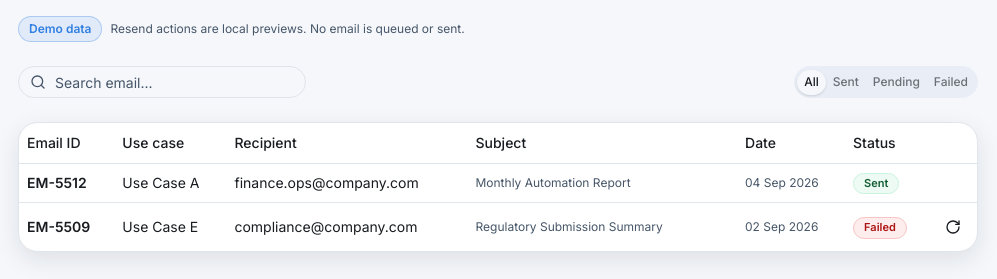
EmailHistoryPreview › filters the provided history without mutating it
The image size is (997, 279).
Type "compliance" into the field named "Search email history".
click(162, 82); type("compliance")  # box [18, 66, 306, 98]
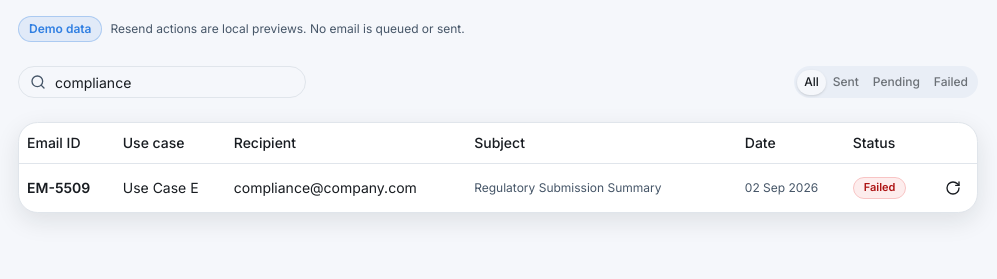
Expected: the text "EM-5509" is shown, [19, 163, 115, 212]
Expected: the text "EM-5512" is gone
